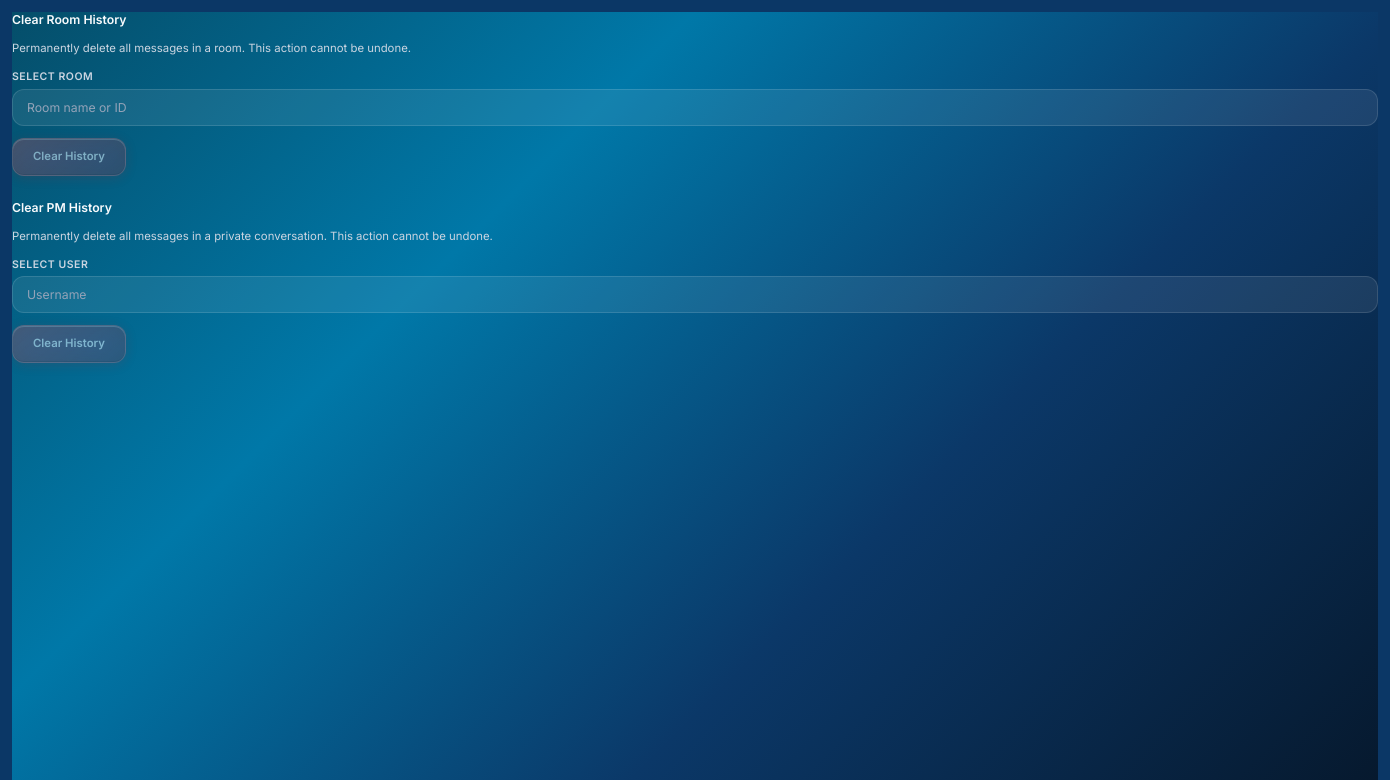
it: AccountSection › Clear Room History › cancel hides the confirmation dialog
Type "general" into the field labelled "Select Room". click: (695, 107)
box: [12,89,1378,126]
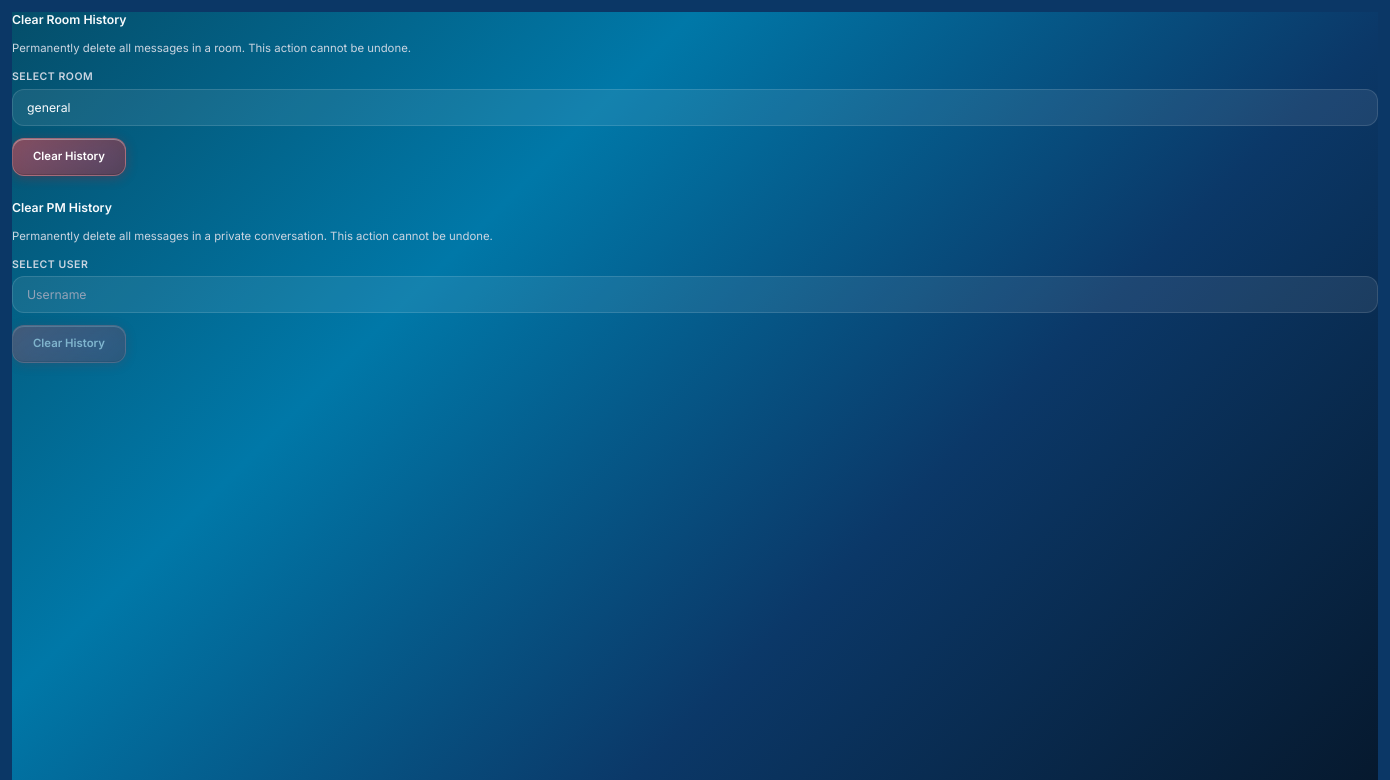
Click the button "Clear History" below "Select Room". click: (69, 157)
box: [12,138,126,176]
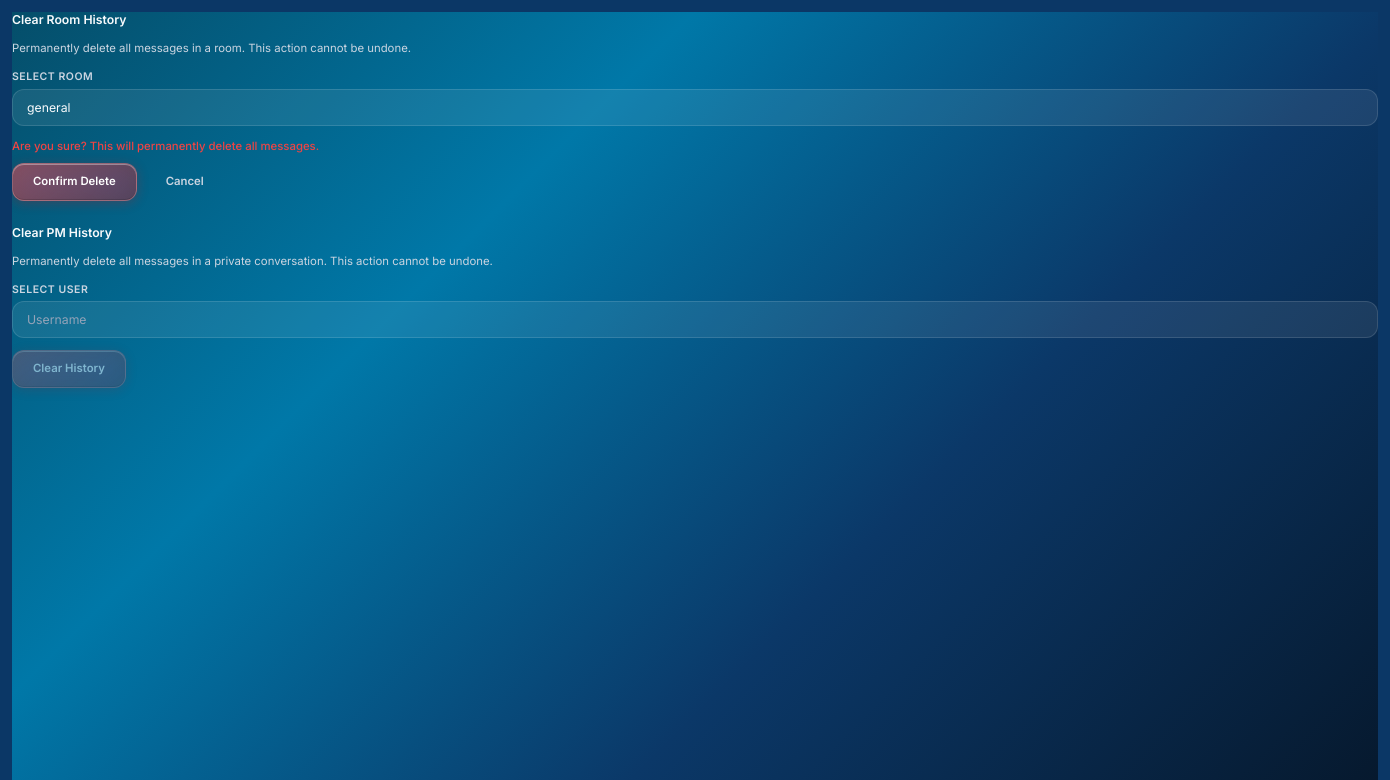
Click the button "Cancel". click: (185, 182)
box: [145,163,225,201]
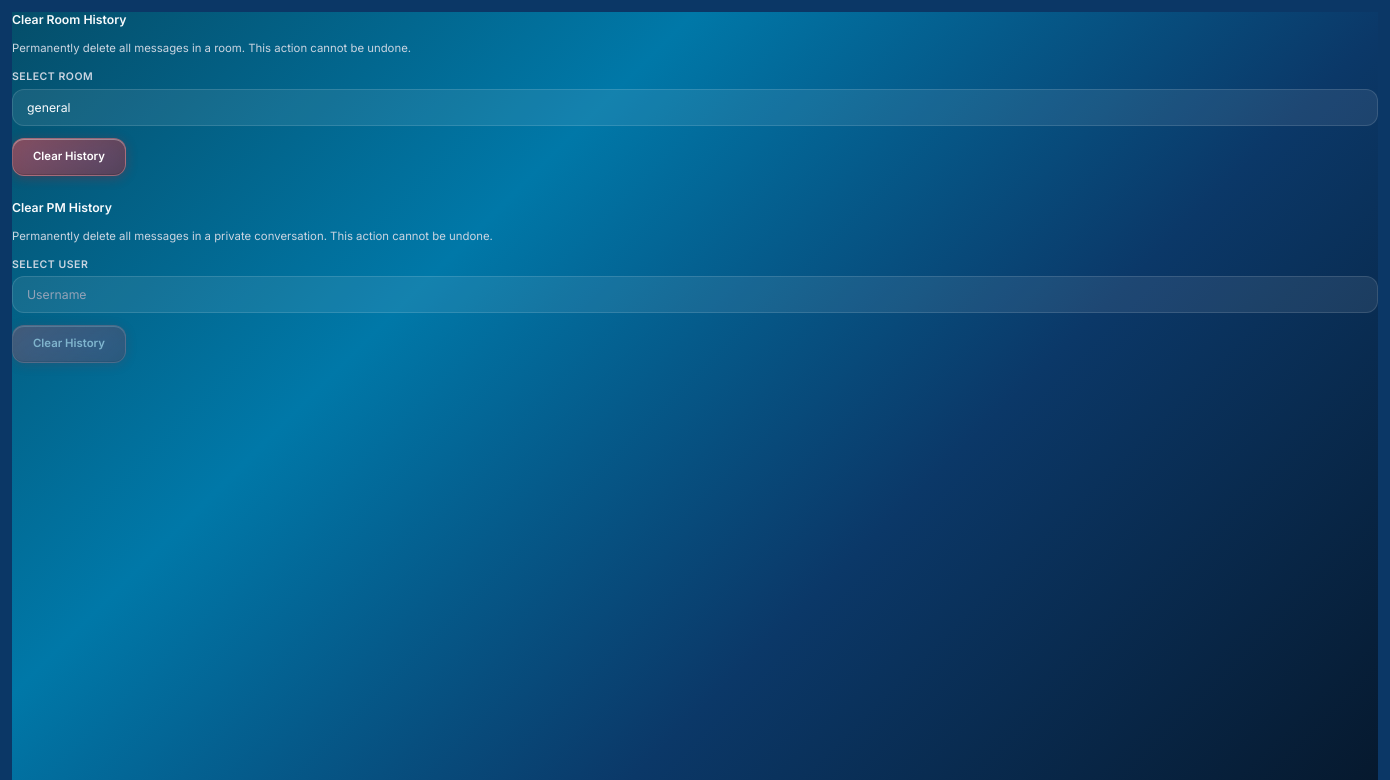
Now the text "Are you sure" is gone
